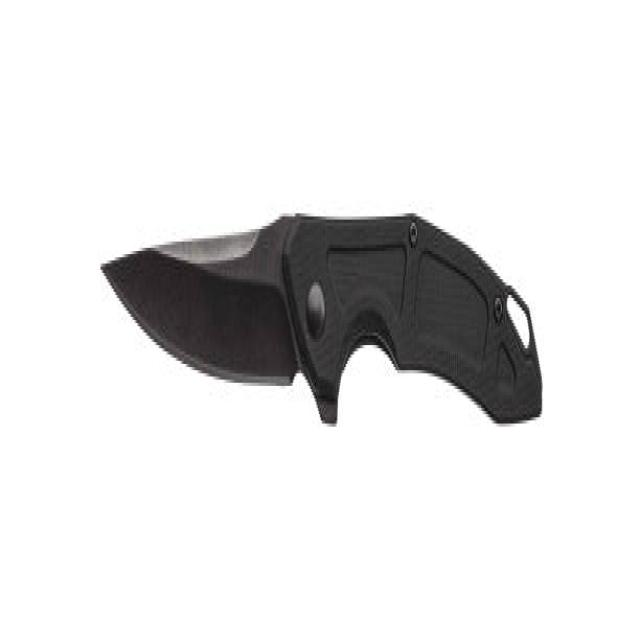knife: (96, 195, 553, 454)
